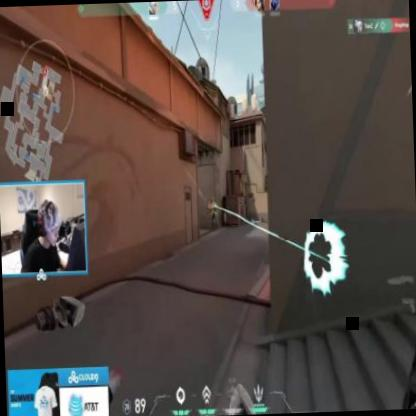enemy: (210, 198, 218, 228)
enemy_head: (212, 198, 215, 204)
